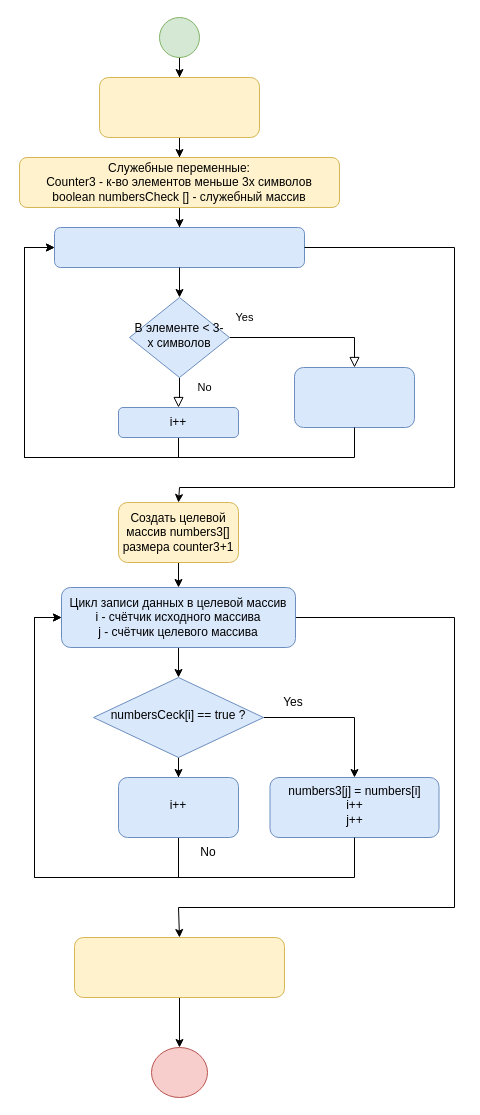
Some shapes in this 480 by 1115 pixel diagram are drawn without their labels. Each missing label, with the centre of its shape:
numberscheck[i] = true counter3++: the point at 354,397
Ввод размера массива Ввод данных массива: the point at 179,107
Вывод на печать исходного и результирующего массивов: the point at 179,967
Цикл проверки значений элементов < 3-х символов: the point at 179,247
